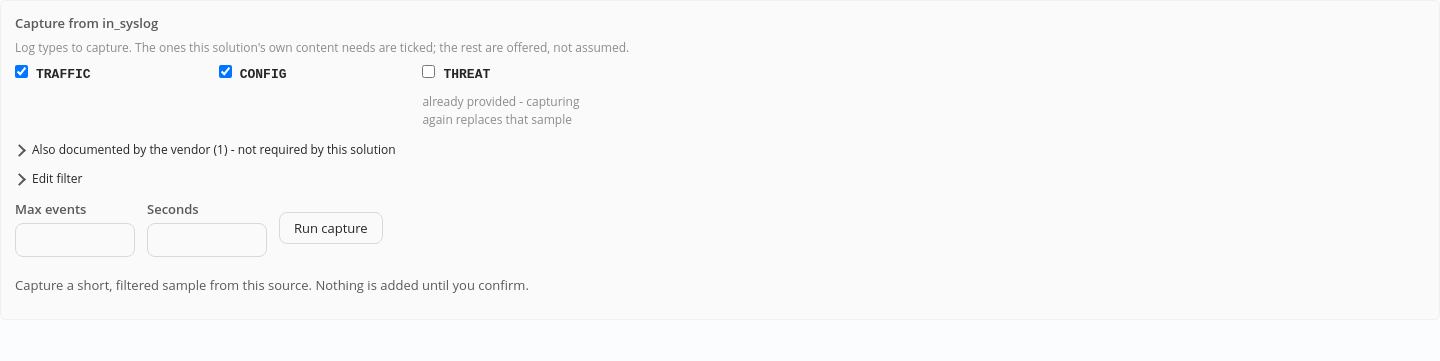
Test: CapturePanel - nothing enters the store without a click › offers no commit at all for a capture that FAILED
The image size is (1440, 361).
Click the button with class "run-button". click: (331, 228)
box: [279, 212, 383, 244]
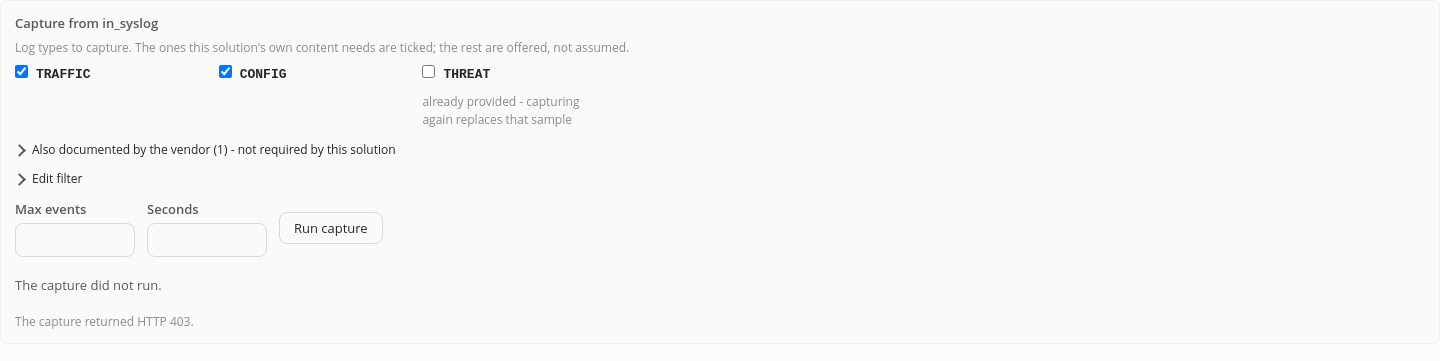
Now the text "The capture did not run." is shown, box [15, 276, 162, 294]
Now the text "The capture returned HTTP 403." is shown, box [15, 313, 194, 330]
